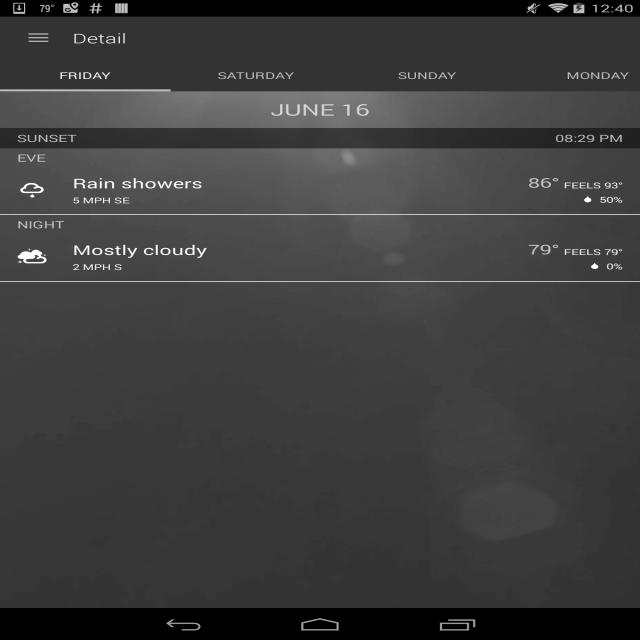ImageButton: (9, 17, 68, 59)
ImageView: (0, 59, 640, 608), (16, 180, 48, 200), (16, 246, 48, 266), (576, 191, 599, 206), (583, 258, 606, 273)
TextView: (0, 91, 640, 128), (0, 148, 640, 165), (0, 215, 640, 231), (316, 131, 640, 145), (0, 131, 316, 144), (72, 240, 207, 258), (72, 174, 202, 192), (217, 69, 294, 82), (72, 29, 126, 47), (566, 69, 629, 82), (72, 192, 130, 206), (559, 246, 623, 258), (397, 69, 456, 82), (559, 180, 623, 191), (59, 69, 111, 82), (73, 259, 122, 272), (528, 174, 559, 192), (528, 240, 559, 258), (599, 191, 623, 205), (606, 258, 623, 272)
